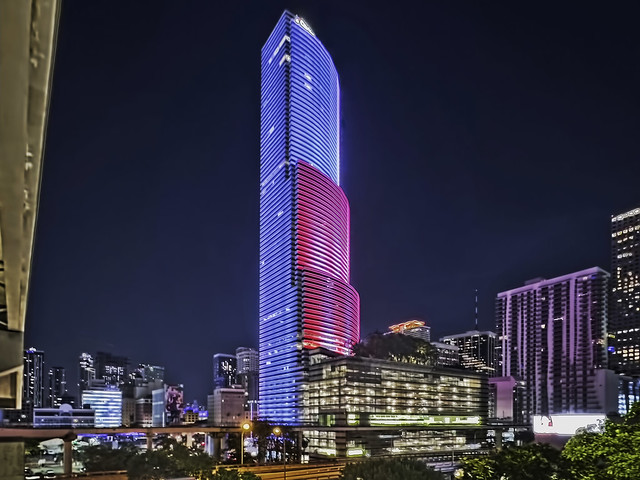low: (250, 6, 364, 427)
